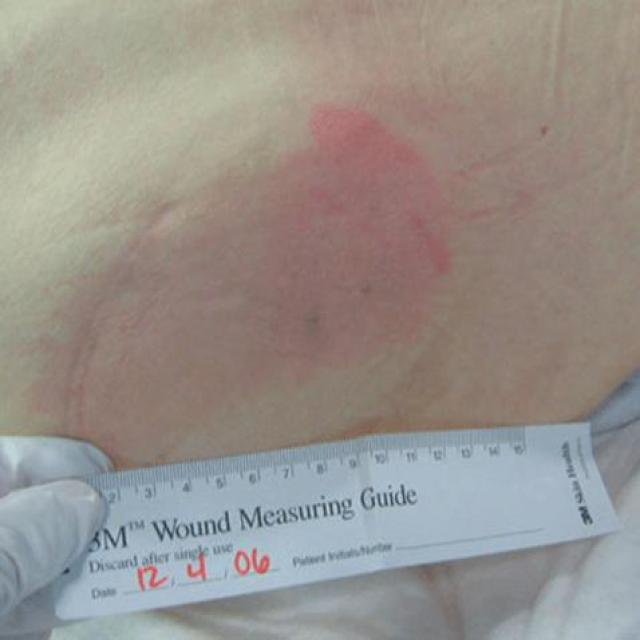stage-1: (262, 110, 457, 391)
